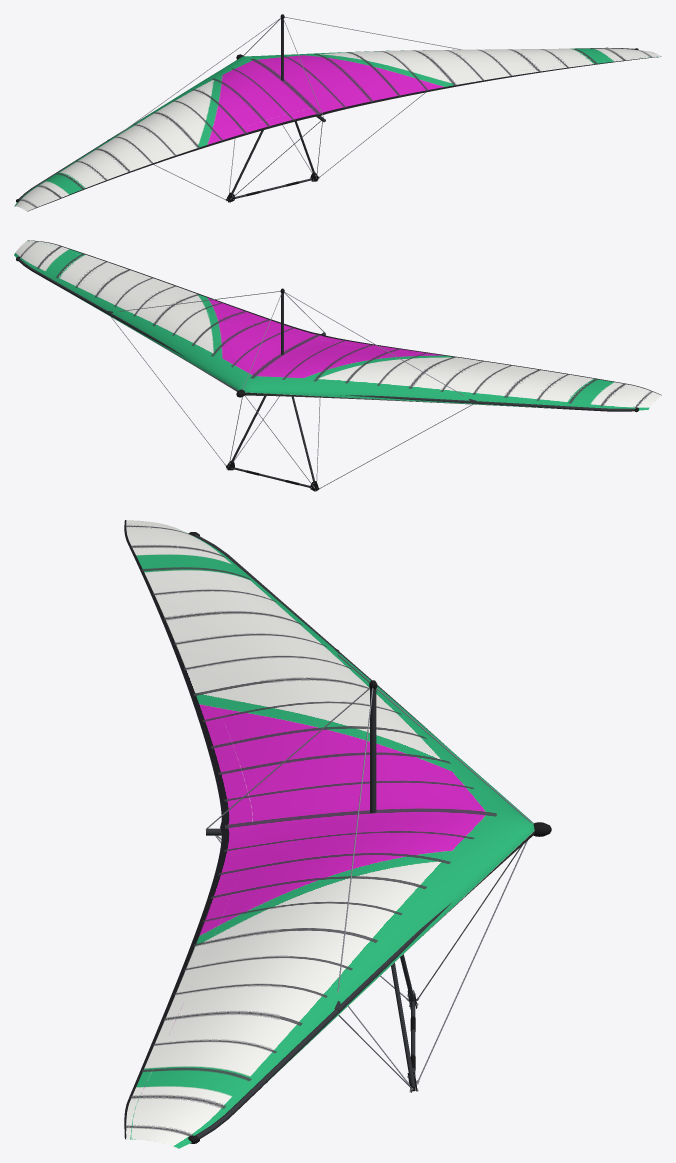
Rendered from glider_bautek_fizz.glb.
3 views of the same model, one above another, from view 1: azimuth 30°, elevation 25°; view 2: azimuth 150°, elevation 25°; view 3: azimuth 270°, elevation 25° (orthographic). The views are drawn at different scales.
Parts seen in each view (by area): view 1: Sail, ControlFrame, Frame; view 2: Sail, Frame, ControlFrame; view 3: Sail, Frame, ControlFrame.
Part boxes in pixels (bbox=[...]): Sail: bbox=[14, 48, 661, 211]; ControlFrame: bbox=[154, 92, 425, 202]; Frame: bbox=[16, 14, 638, 202]; Sail: bbox=[14, 240, 661, 410]; Frame: bbox=[16, 256, 638, 412]; ControlFrame: bbox=[111, 317, 472, 491]; Sail: bbox=[124, 520, 534, 1148]; Frame: bbox=[188, 532, 551, 1143]; ControlFrame: bbox=[215, 835, 527, 1092].
Size of the model in its own units: 10.41 by 2.9 by 3.04.
Materials: 8 (1 with a texture image).
